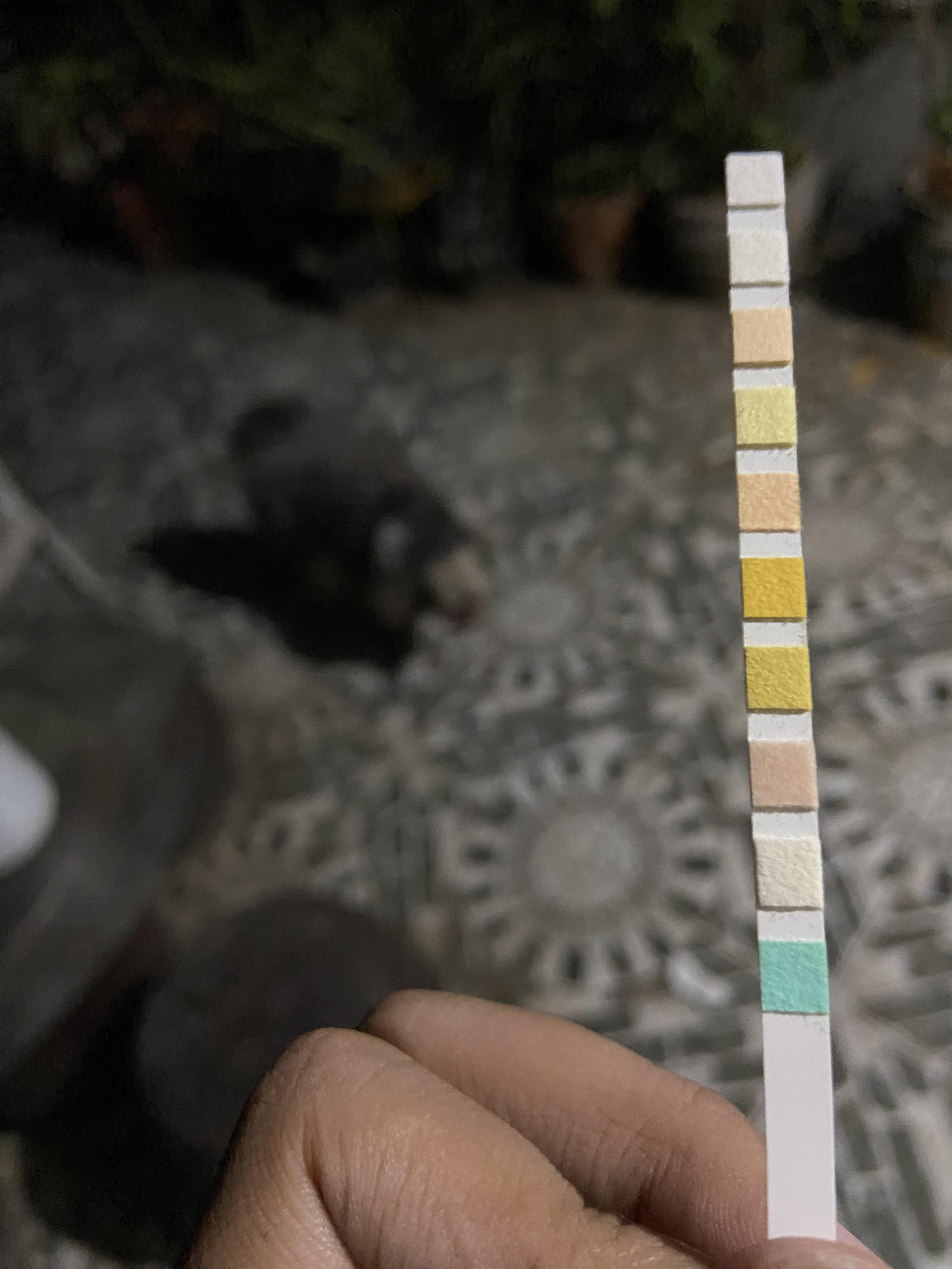Bilirubin: (759, 839, 822, 908)
Blood: (743, 558, 804, 618)
Glucose: (763, 941, 826, 1012)
Ketone: (752, 742, 814, 806)
Leukocytes: (728, 156, 781, 201)
Nitrite: (731, 234, 788, 281)
Protein: (736, 389, 795, 443)
SpGravity: (747, 647, 809, 709)
Urobilinogen: (733, 310, 792, 362)
pH: (738, 473, 800, 530)
strip: (727, 152, 838, 1235)
